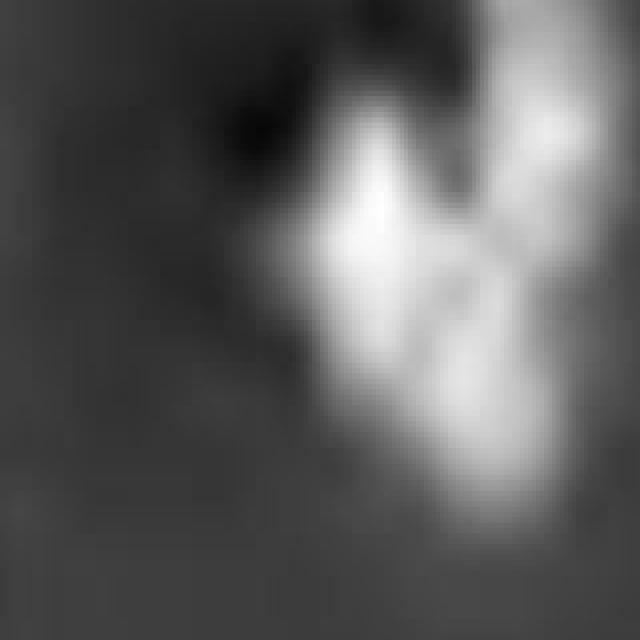person: (305, 1, 625, 524)
